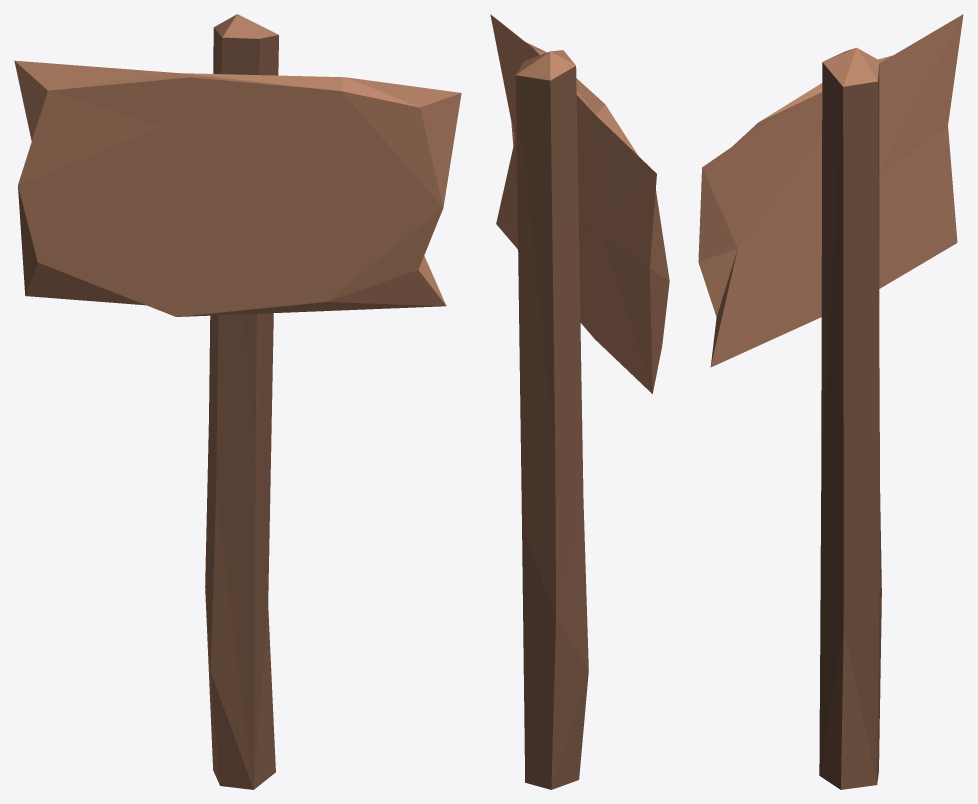
File: 方向牌.fbx
3 renders of one model, left to right at view 1: azimuth 30°, elevation 25°; view 2: azimuth 150°, elevation 25°; view 3: azimuth 270°, elevation 25°, orthographic. The views are drawn at different scales.
Parts seen in each view (by area): view 1: Pointer; view 2: Pointer; view 3: Pointer.
Part boxes in pixels (x1=…): Pointer: x1=14, y1=14, x2=461, y2=789; Pointer: x1=490, y1=14, x2=669, y2=789; Pointer: x1=698, y1=14, x2=963, y2=789.
Size of the model in its own units: 93.33 by 215 by 70.78.
